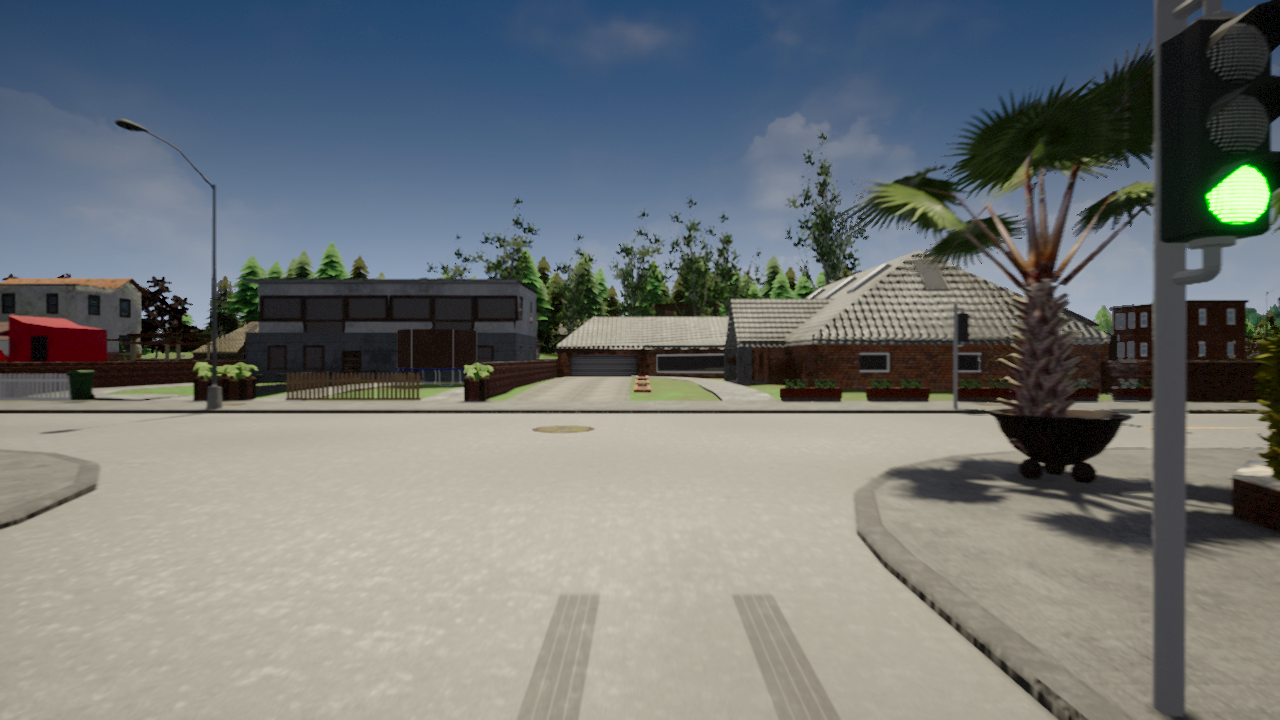green: (1168, 2, 1280, 245)
